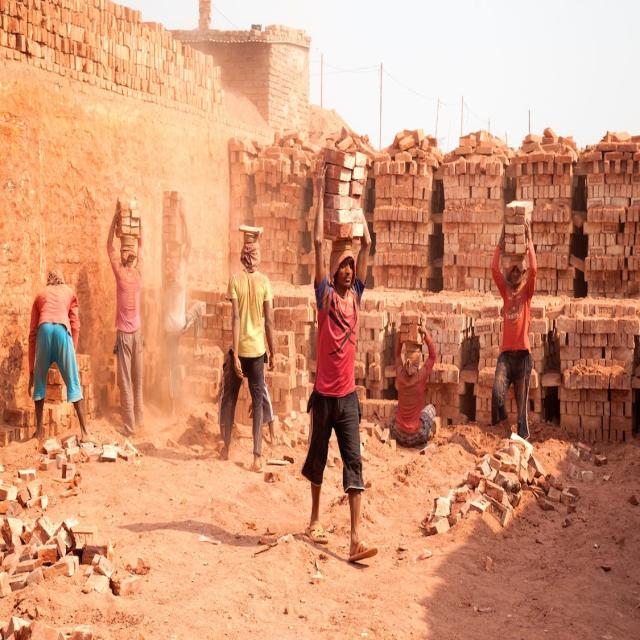no_boots: (349, 533, 377, 567), (302, 516, 327, 547), (254, 451, 267, 473), (219, 440, 233, 460)
no_hardhat: (326, 226, 353, 288), (240, 232, 262, 279), (404, 334, 424, 373), (122, 226, 138, 270), (507, 249, 525, 288), (47, 266, 67, 286)
no_vest: (304, 264, 368, 398), (488, 232, 542, 355), (24, 284, 85, 386), (383, 324, 433, 446), (226, 262, 274, 356), (105, 240, 149, 326)
person: (297, 161, 382, 564), (218, 231, 284, 468), (482, 215, 541, 447), (26, 264, 93, 450), (105, 195, 155, 431), (391, 325, 438, 450)
